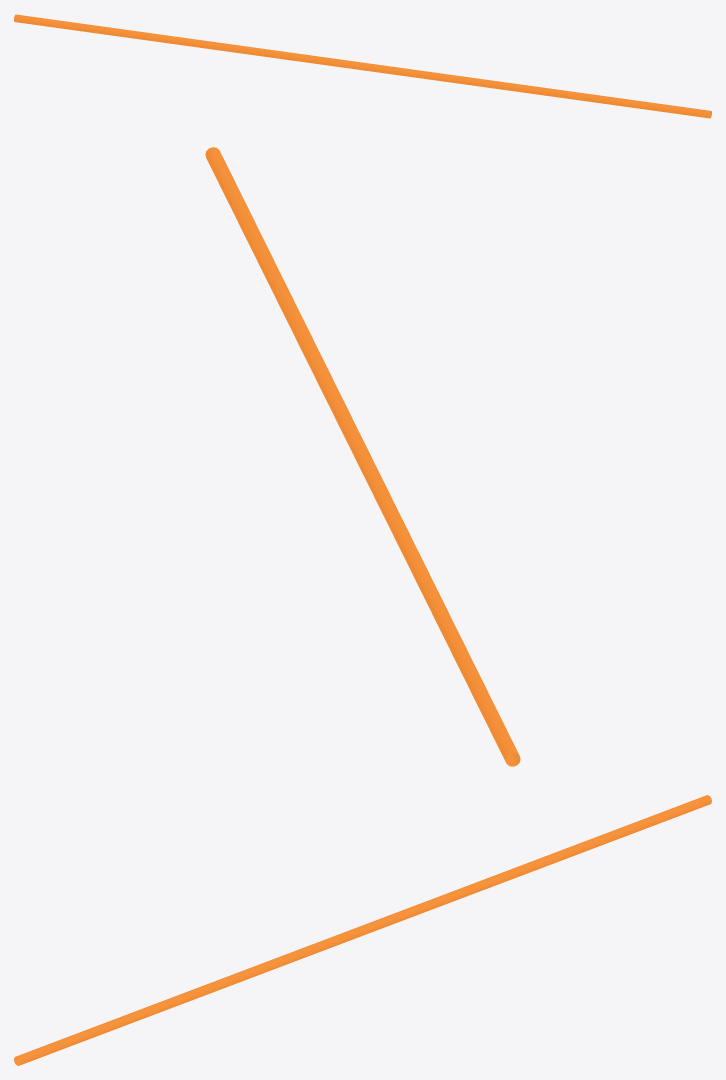
3 renders of one model, top to bottom at view 1: azimuth 30°, elevation 25°; view 2: azimuth 150°, elevation 25°; view 3: azimuth 270°, elevation 25°, orthographic. The views are drawn at different scales.
Visible parts, largest first — view 1: BezierCurve.005; view 2: BezierCurve.005; view 3: BezierCurve.005.
Part boxes in pixels (left/top/right/bottom): BezierCurve.005: left=14, top=14, right=711, bottom=118; BezierCurve.005: left=205, top=147, right=520, bottom=766; BezierCurve.005: left=14, top=795, right=711, bottom=1065.
Size of the model in its own units: 6.39 by 0.1 by 7.12.
